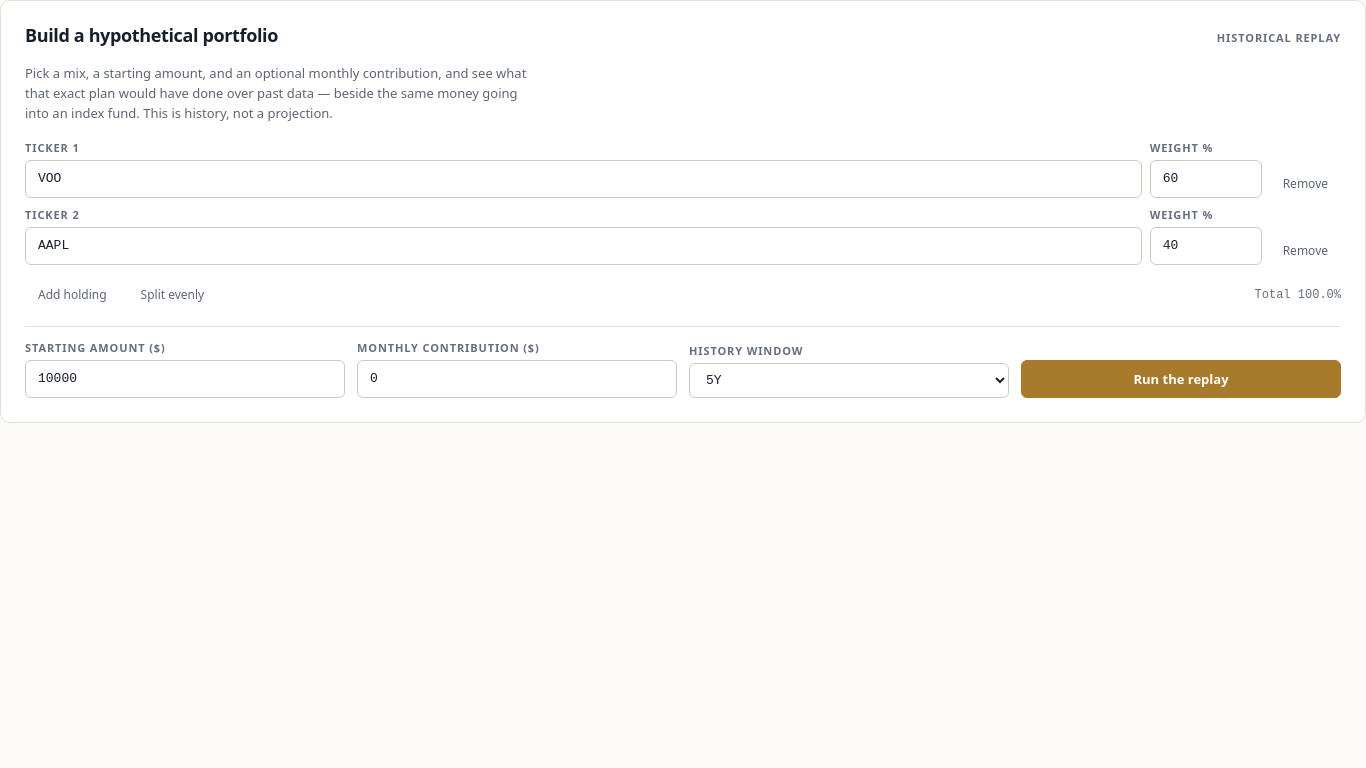
Test: PortfolioBuilder › renders an accessible growth chart with both series named
Click the button "Run the replay" at (1181, 379), box 1021,360 -> 1341,398
(page scrolled)
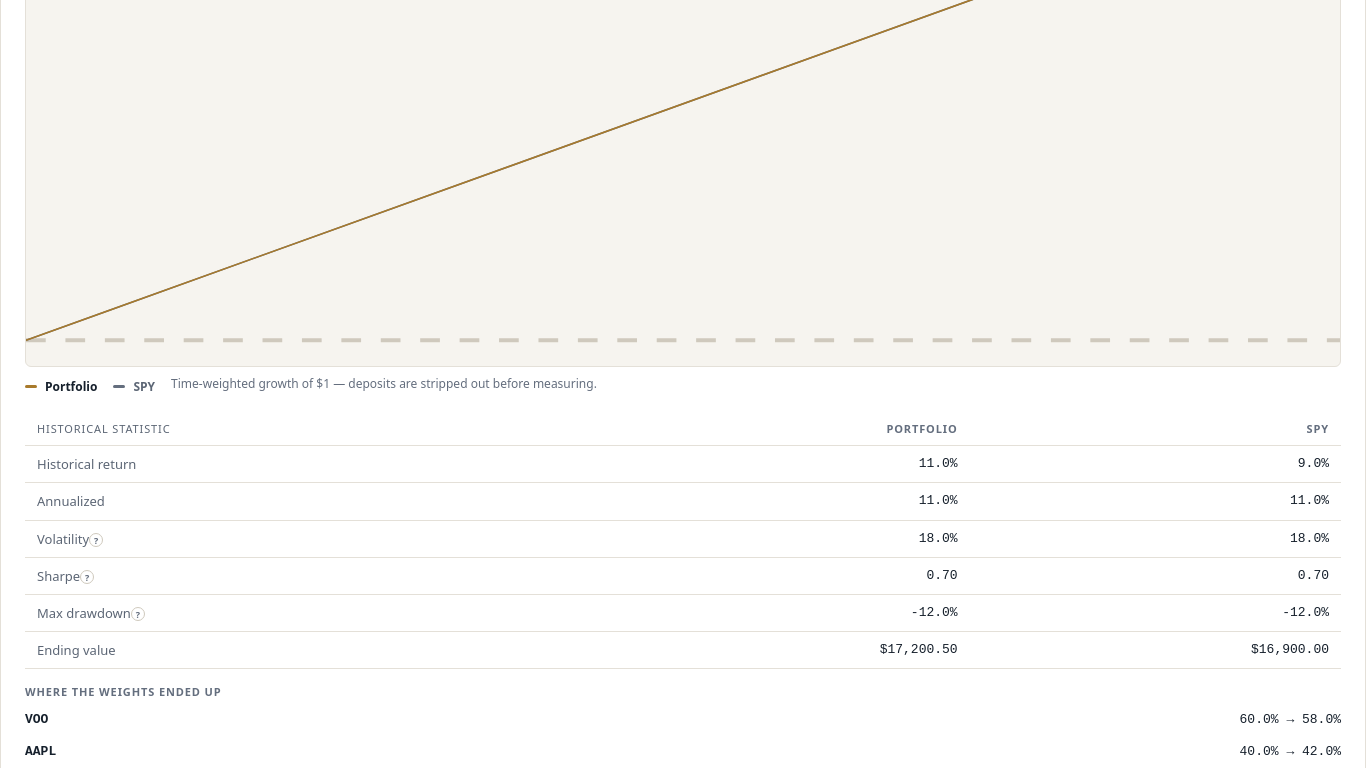
Check: the text "deposits are stripped out" is shown, box 171,375 -> 597,392
